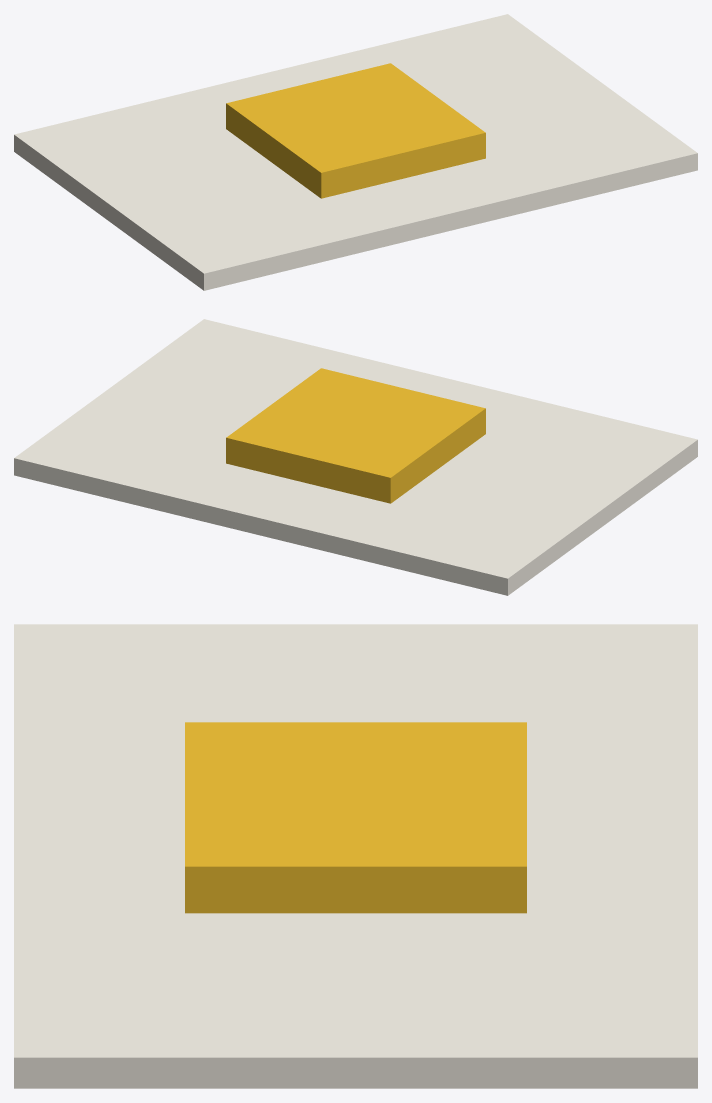
Rendered from fx_eggsplat.glb.
3 renders of one model, top to bottom at view 1: azimuth 30°, elevation 25°; view 2: azimuth 150°, elevation 25°; view 3: azimuth 270°, elevation 25°, orthographic. The views are drawn at different scales.
Parts seen in each view (by area): view 1: fx_eggsplat; view 2: fx_eggsplat; view 3: fx_eggsplat.
Part boxes in pixels (<box>): fx_eggsplat: <box>14,14,697,290</box>; fx_eggsplat: <box>14,319,697,595</box>; fx_eggsplat: <box>14,624,697,1088</box>.
Bounding box in the file's own units: 0.3 × 0.025 × 0.2.
1 material, 1 textured.
